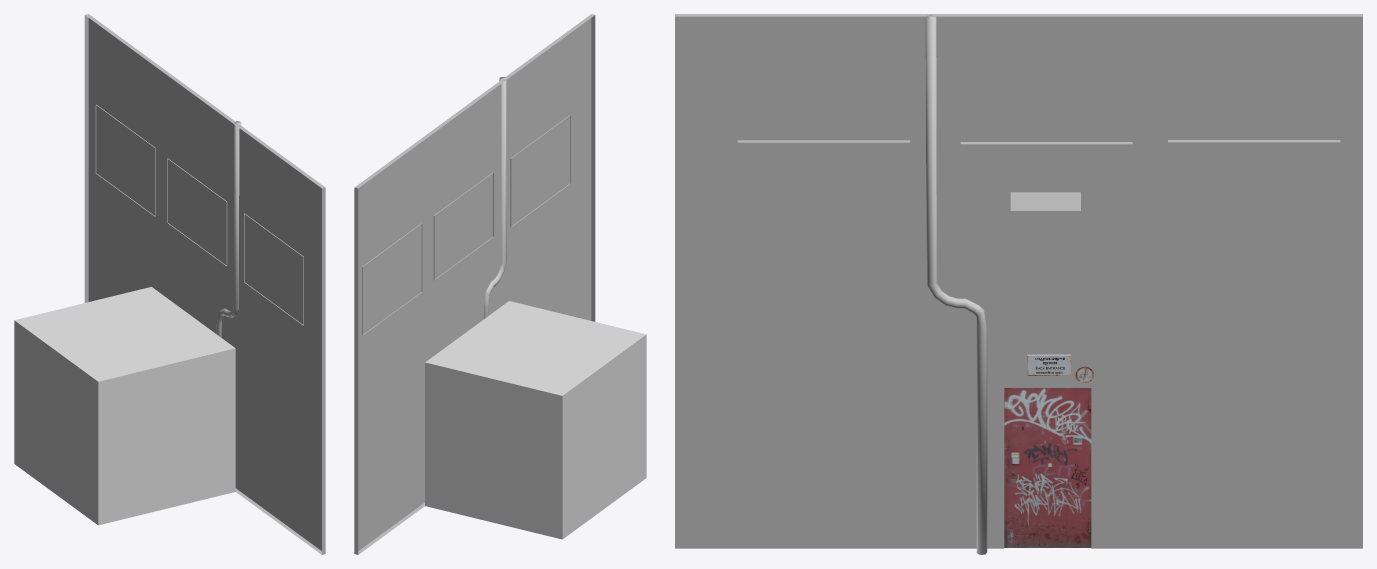
The model's file is alley_building_6.FBX.
The picture shows the model from 3 angles, left to right: view 1: azimuth 30°, elevation 25°; view 2: azimuth 150°, elevation 25°; view 3: azimuth 270°, elevation 25°; orthographic projection. The views are drawn at different scales.
Parts seen in each view (by area): view 1: alley_building_6, room; view 2: alley_building_6, room; view 3: alley_building_6, back_alley_entrance.
Part boxes in pixels (x1,y1,x2,y2): alley_building_6: (84, 14, 325, 554); room: (14, 287, 235, 525); alley_building_6: (354, 14, 595, 554); room: (425, 301, 646, 539); alley_building_6: (675, 14, 1362, 554); back_alley_entrance: (1004, 388, 1091, 547).
Bounding box in the file's own units: 391 × 910 × 1059.
